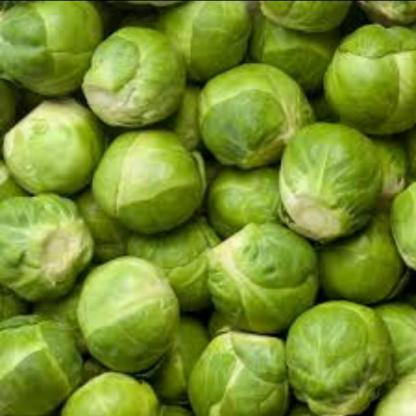brus capusta: (2, 8, 415, 416)
